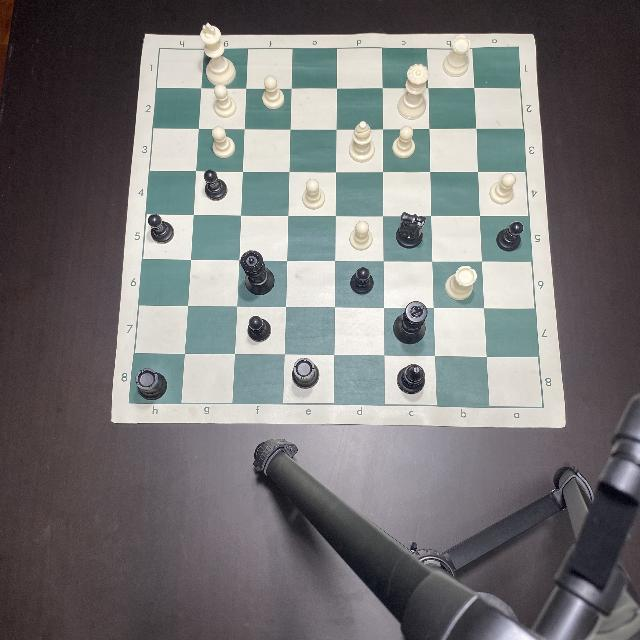black-bishop: (396, 364, 426, 394)
black-king: (394, 301, 428, 344)
black-knight: (396, 212, 426, 248)
black-pawn: (148, 213, 176, 243), (495, 222, 523, 250), (204, 170, 228, 202), (245, 315, 272, 343), (351, 266, 374, 294)
black-queen: (240, 250, 276, 296)
black-rook: (134, 368, 168, 399), (291, 358, 319, 388)
board: (117, 35, 567, 428)
white-bishop: (350, 120, 374, 162)
white-king: (200, 22, 237, 86)
white-pawn: (258, 77, 286, 109), (212, 84, 238, 118), (300, 178, 326, 210), (490, 173, 516, 204), (212, 125, 236, 158), (392, 126, 416, 158), (350, 220, 372, 250)
white-queen: (398, 64, 427, 118)
white-rook: (442, 36, 470, 76), (446, 266, 478, 300)
